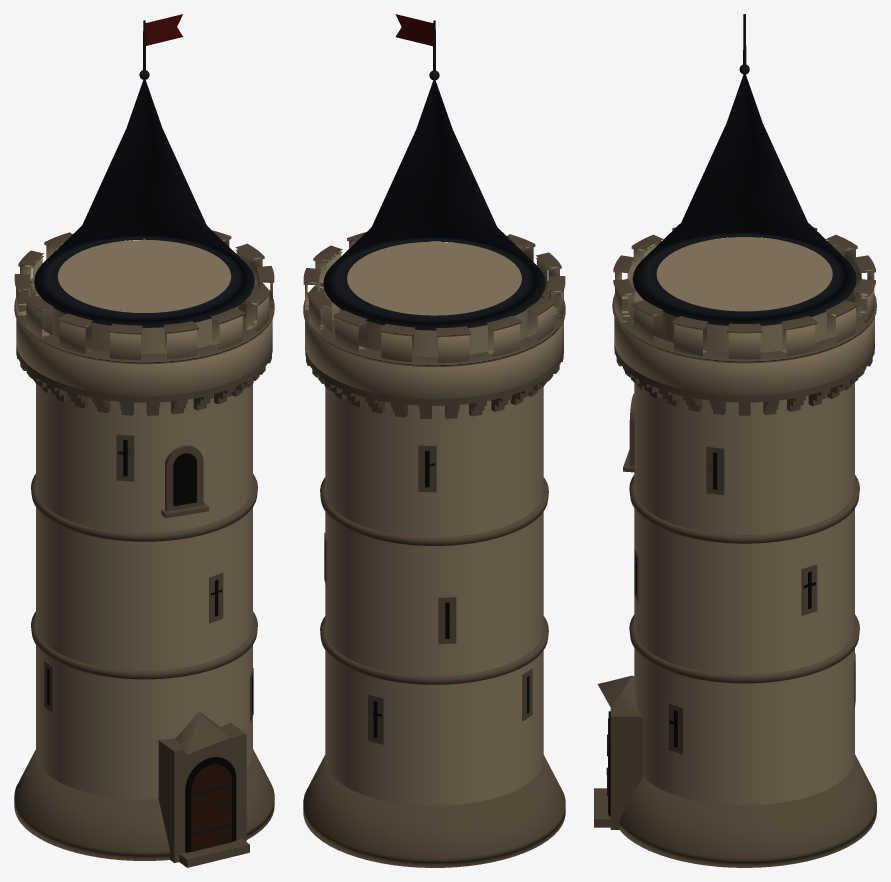
File: medieval-tower.obj
3 views of the same model, side by side, from view 1: azimuth 30°, elevation 25°; view 2: azimuth 150°, elevation 25°; view 3: azimuth 270°, elevation 25° (orthographic).
Visible parts, largest first — view 1: shaft, roof, roof_drum, plinth, parapet_wall, merlons, portal_block, merlon_caps, door, parapet_coping, string_course_2, string_course_1 (+10 smaller); view 2: shaft, roof, plinth, roof_drum, parapet_wall, merlons, merlon_caps, slit_surrounds, parapet_coping, string_course_2, string_course_1, corbels (+3 smaller); view 3: shaft, roof, plinth, roof_drum, parapet_wall, merlons, merlon_caps, portal_block, parapet_coping, string_course_1, string_course_2, slit_surrounds (+5 smaller).
Boxes of the visible parts, x1,y1,x2,y2 form: shaft: (36, 384, 252, 799); roof: (34, 80, 254, 327); roof_drum: (51, 240, 238, 354); plinth: (14, 749, 274, 860); parapet_wall: (16, 291, 272, 396); merlons: (16, 238, 272, 360); portal_block: (158, 722, 246, 862); merlon_caps: (14, 230, 274, 334); door: (191, 764, 231, 851); parapet_coping: (14, 278, 274, 364); string_course_2: (31, 474, 257, 541); string_course_1: (31, 611, 257, 679); shaft: (325, 387, 543, 805); roof: (323, 80, 545, 330); plinth: (303, 755, 565, 867); roof_drum: (339, 242, 528, 356); parapet_wall: (305, 293, 563, 399); merlons: (305, 240, 563, 362); merlon_caps: (303, 232, 565, 337); slit_surrounds: (324, 445, 532, 744); parapet_coping: (303, 281, 565, 366); string_course_2: (320, 477, 548, 545); string_course_1: (320, 616, 548, 684); corbels: (306, 355, 563, 419); shaft: (634, 383, 854, 805); roof: (632, 74, 856, 325); plinth: (619, 754, 876, 867); roof_drum: (656, 237, 832, 352); parapet_wall: (614, 291, 874, 395); merlons: (615, 237, 874, 359); merlon_caps: (613, 227, 875, 333); portal_block: (610, 708, 642, 829); parapet_coping: (612, 278, 876, 363); string_course_1: (629, 614, 859, 683); string_course_2: (629, 475, 859, 543); slit_surrounds: (634, 446, 855, 754).
Bounding box in the file's own units: 7.2 × 23.96 × 7.7.
